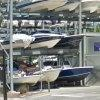Boat: (17, 49, 100, 88)
